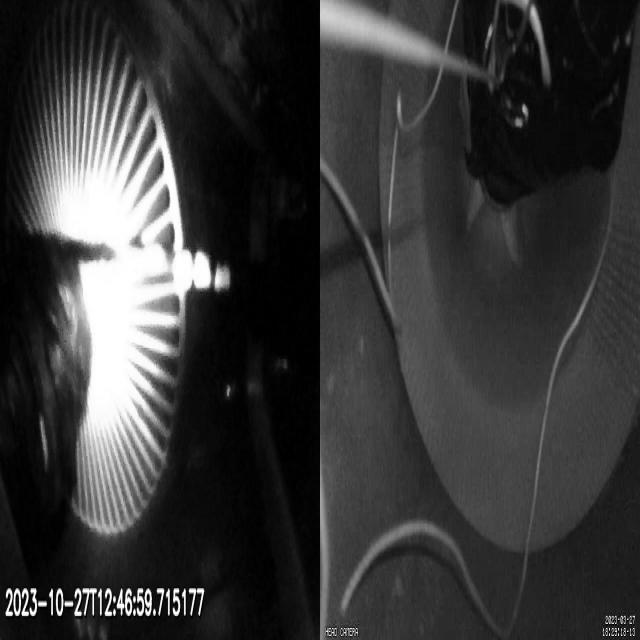white-dots: (172, 247, 230, 298)
